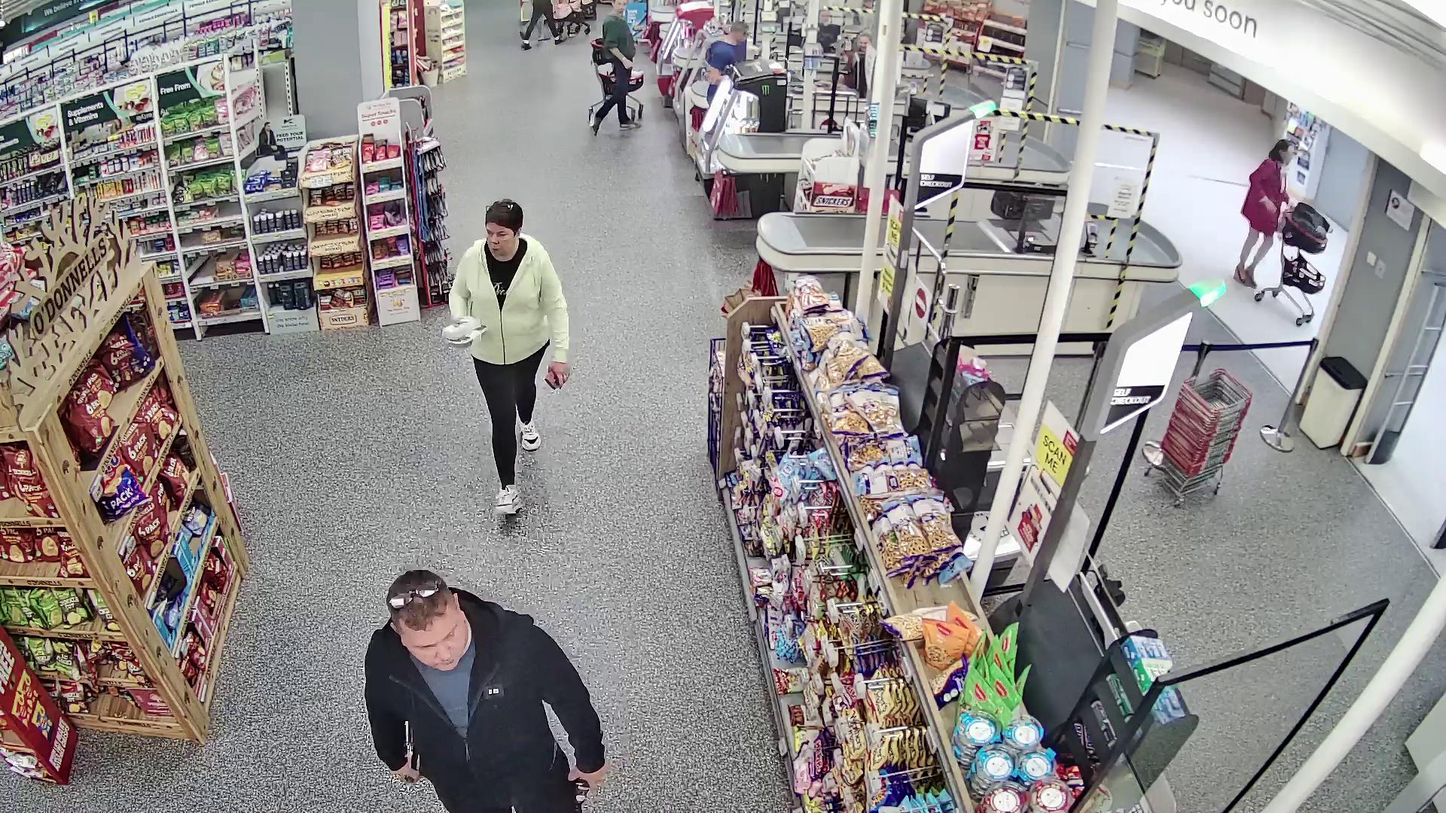carrying-item: (439, 316, 489, 348)
person: (448, 196, 573, 516)
person-with-carrying-item: (438, 196, 573, 515)
